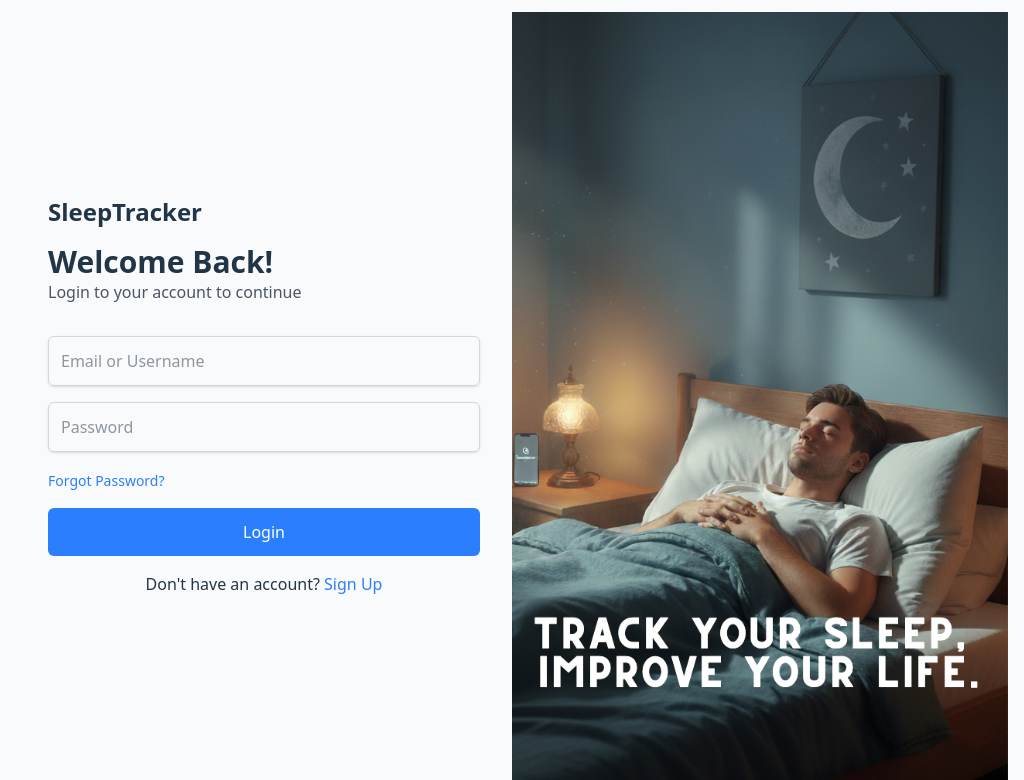
Test case: AuthPage › should switch to the registration form when the "Sign Up" button is clicked
Click the button "Sign Up": click(353, 584) [324,572,382,596]
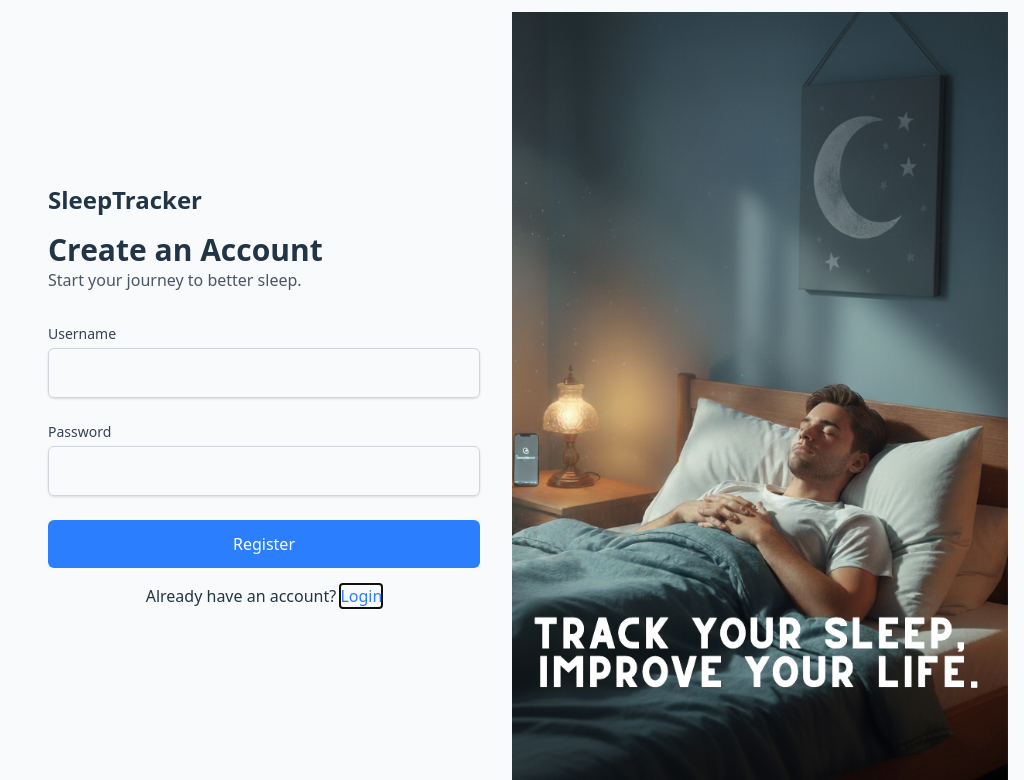
expect the form named "registration form" is shown: met, box [48,324,480,568]
